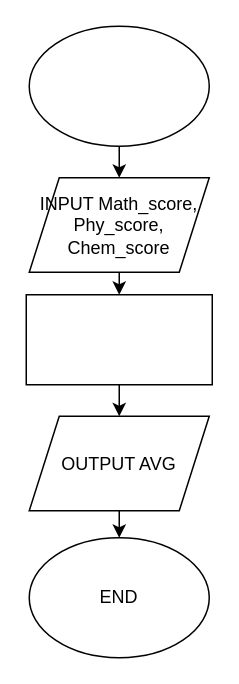
The diagram is 239 pixels wide and 684 high, and some of its shapes have lost their labels. Each missing label, with the centre of its shape:
"AVG=(Math_score+ Phy_score+ Chem_score)/3" belongs at point 118,339.
"START" belongs at point 118,85.
